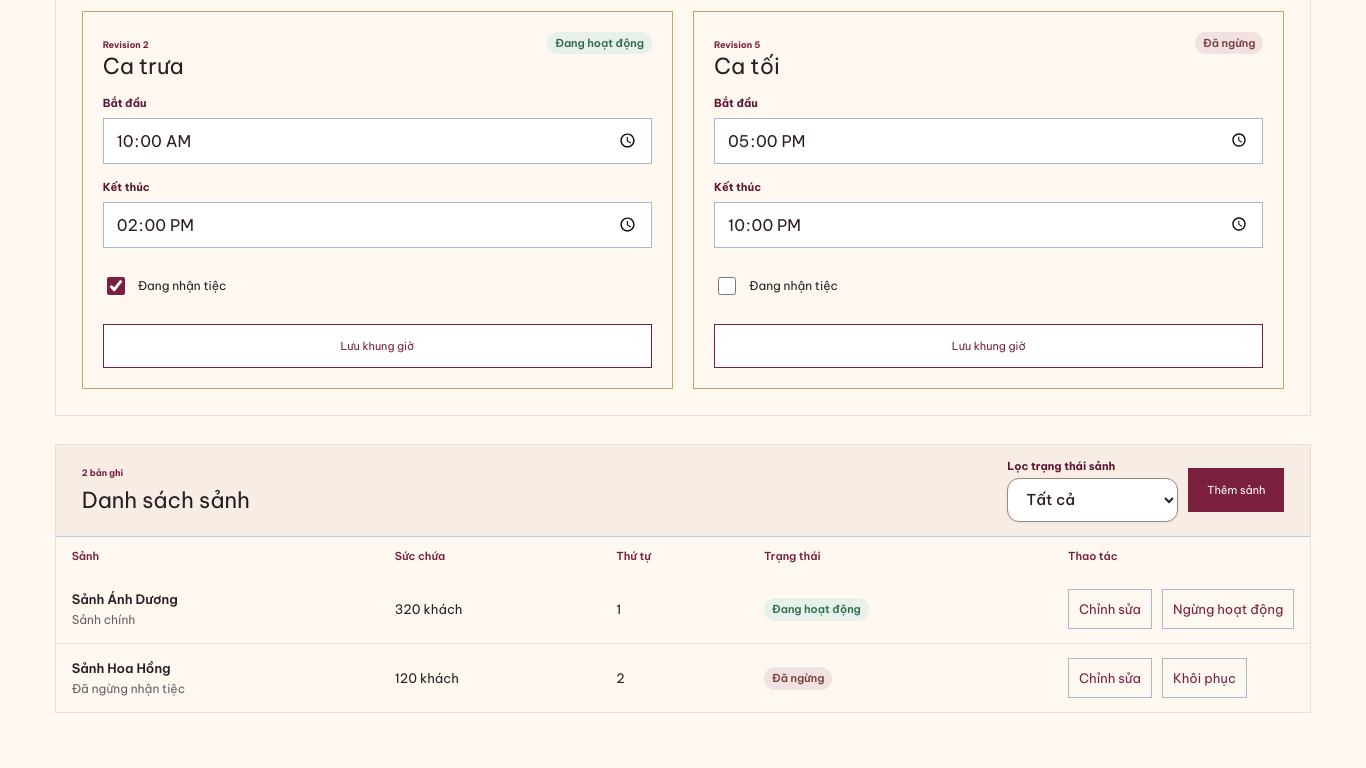
Test: VC-18 venue catalog workspace › filters lifecycle records and reports a recoverable hall capacity conflict
The width and height of the screenshot is (1366, 768).
(page scrolled)
Expected: the text "Sảnh Ánh Dương" is shown, [72, 591, 178, 607]
Select "Đã ngừng" in the dropdown labelled "Lọc trạng thái sảnh" at {"x": 1093, "y": 500}, box [1007, 478, 1178, 522]
(page scrolled)
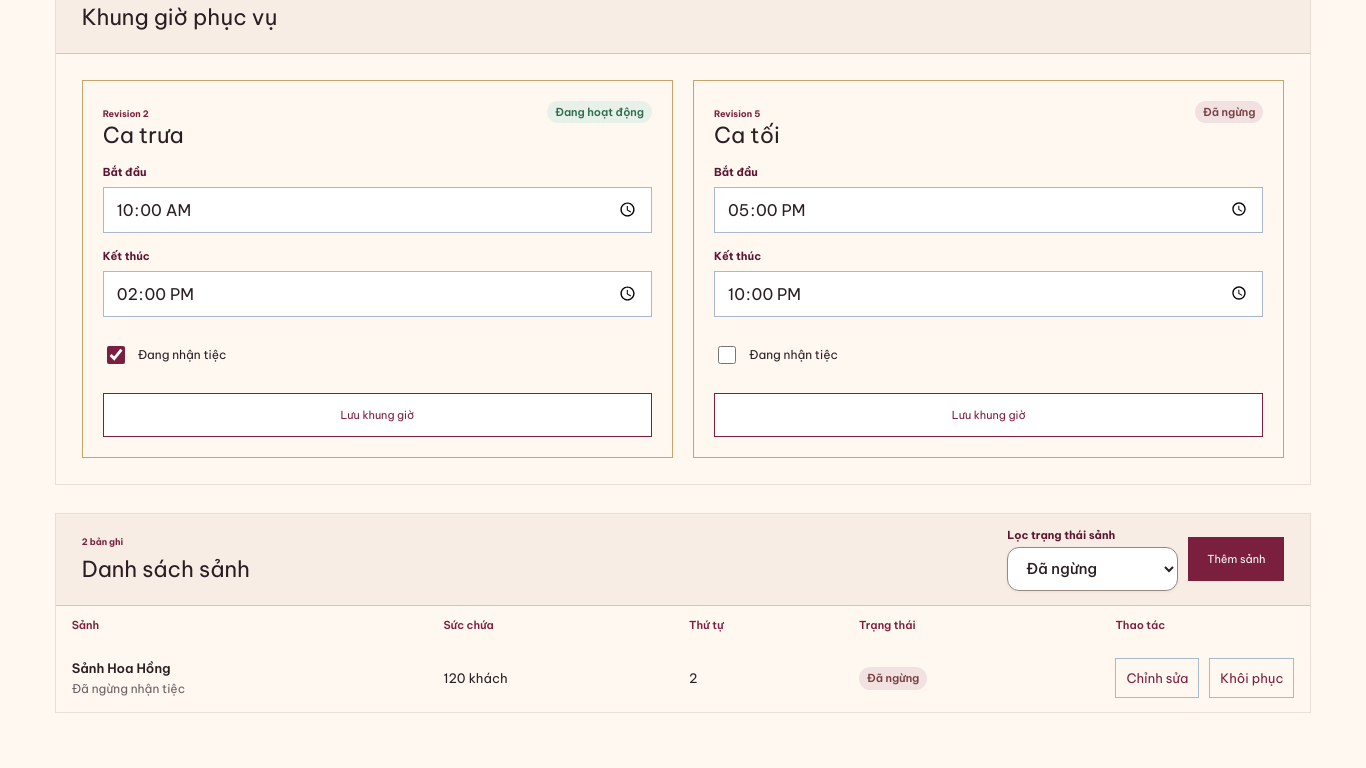
Expected: the text "Sảnh Hoa Hồng" is shown, [72, 660, 170, 676]
Expected: the text "Sảnh Ánh Dương" is gone
Select "Đang hoạt động" in the dropdown labelled "Lọc trạng thái sảnh" at {"x": 1093, "y": 569}, box [1007, 547, 1178, 591]
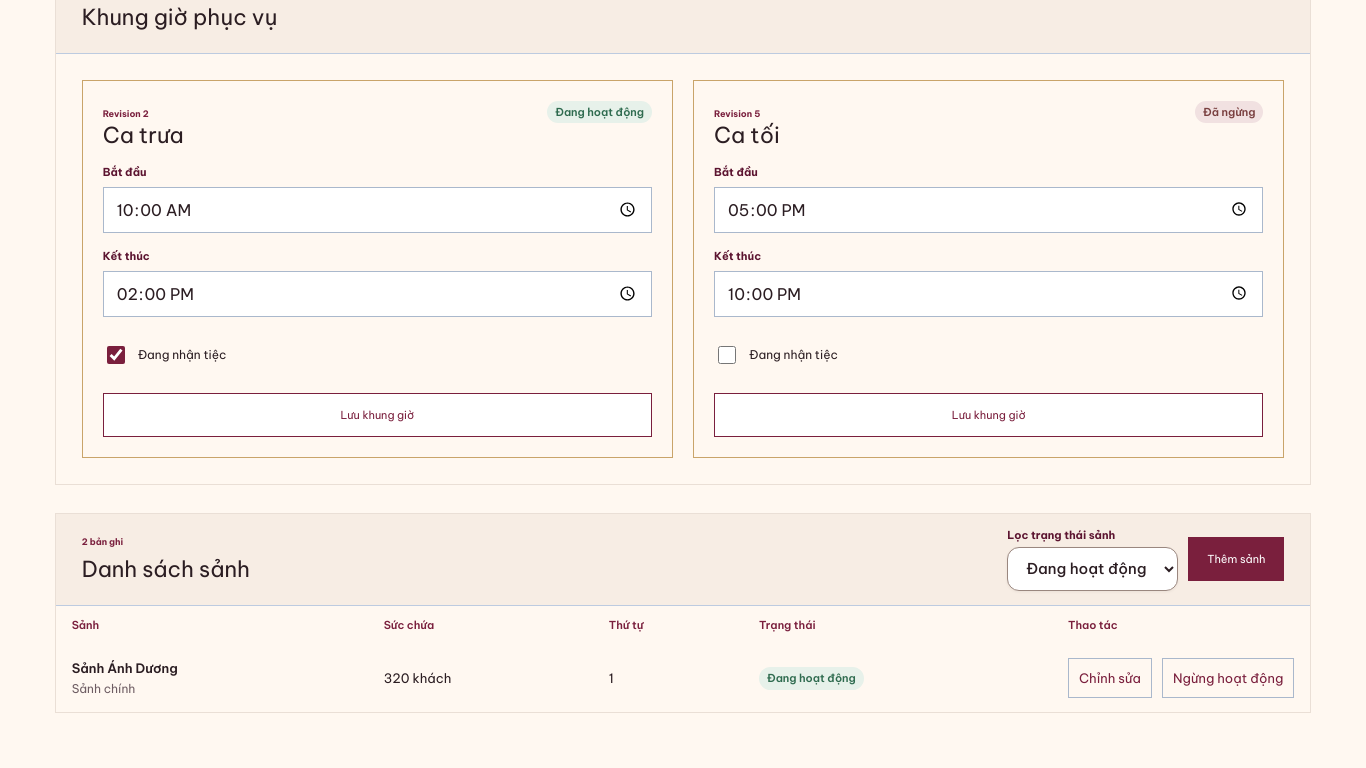
Click the button with aria-label "Chỉnh sửa Sảnh Ánh Dương".
click(1110, 678)  # box [1068, 658, 1152, 698]
(page scrolled)
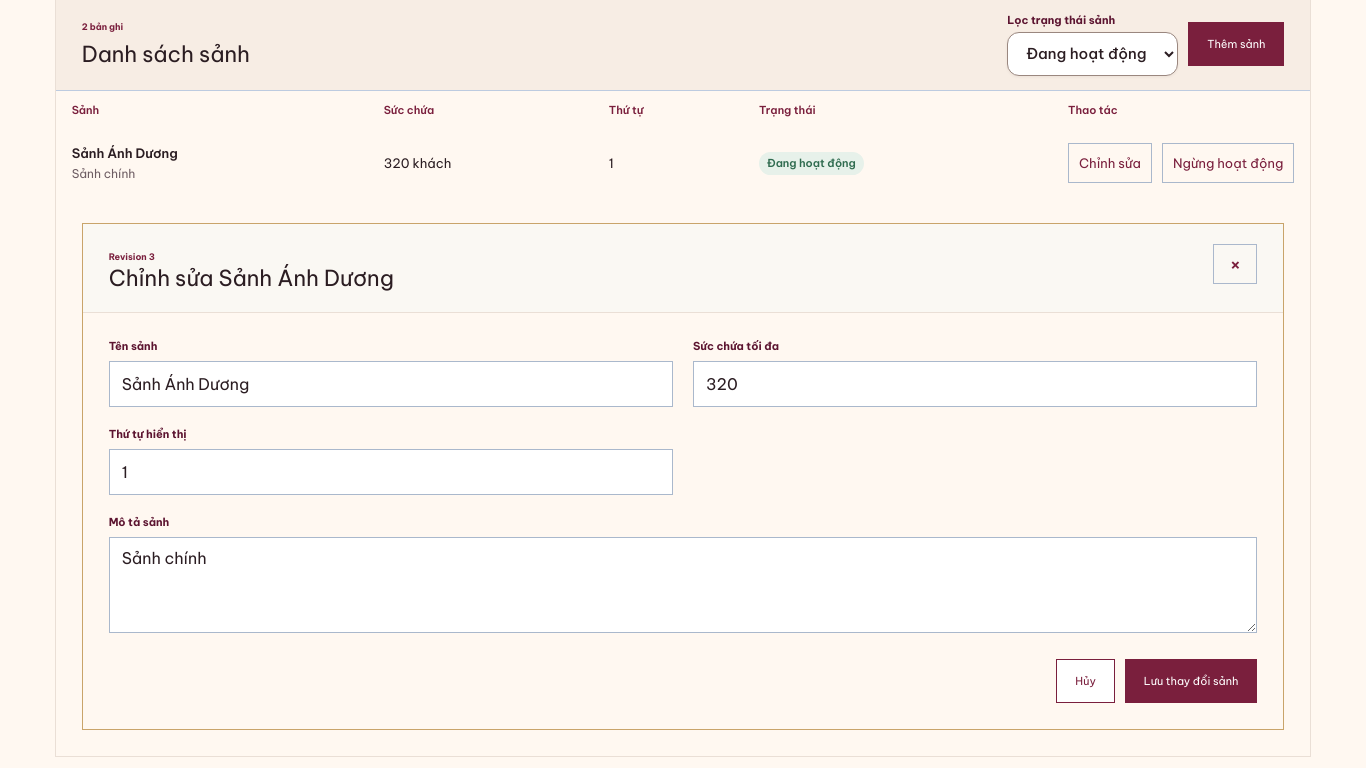
Replace the text in the number field labelled "Sức chứa tối đa" with "100" at {"x": 975, "y": 384}, box [693, 362, 1257, 408]
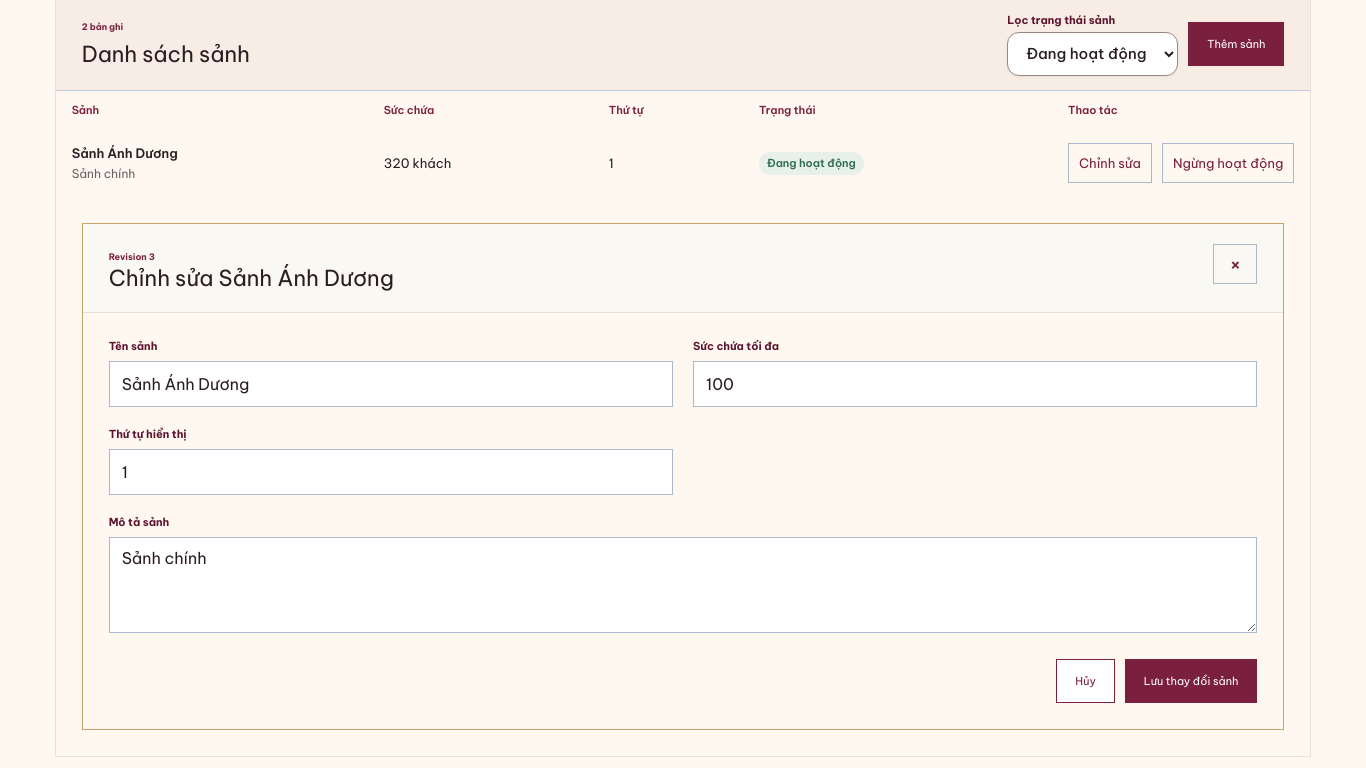
Click the button "Lưu thay đổi sảnh".
click(1191, 682)  # box [1125, 660, 1257, 704]
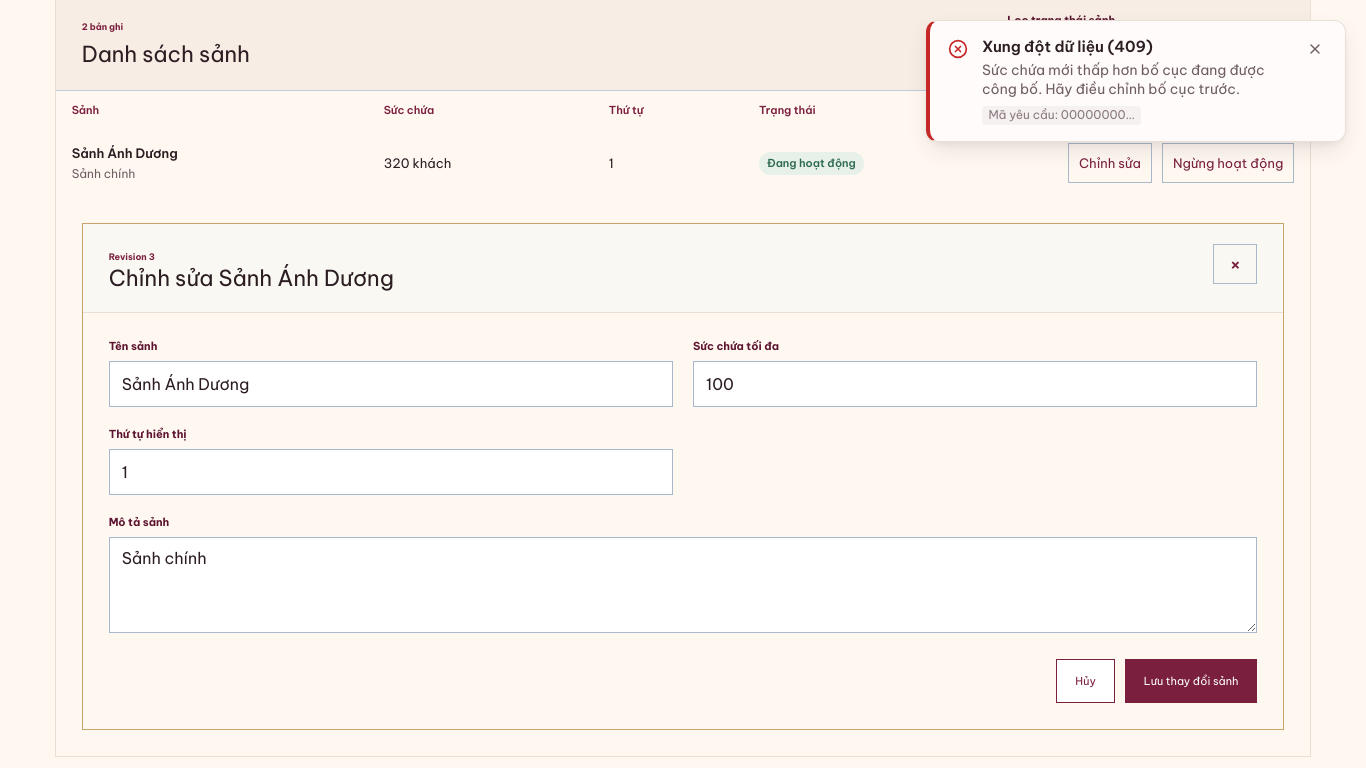
Expected: the button "Lưu thay đổi sảnh" is enabled, [1125, 660, 1257, 704]
Expected: the message shows "Sức chứa mới thấp hơn bố cục đang được công bố", [982, 61, 1265, 98]
